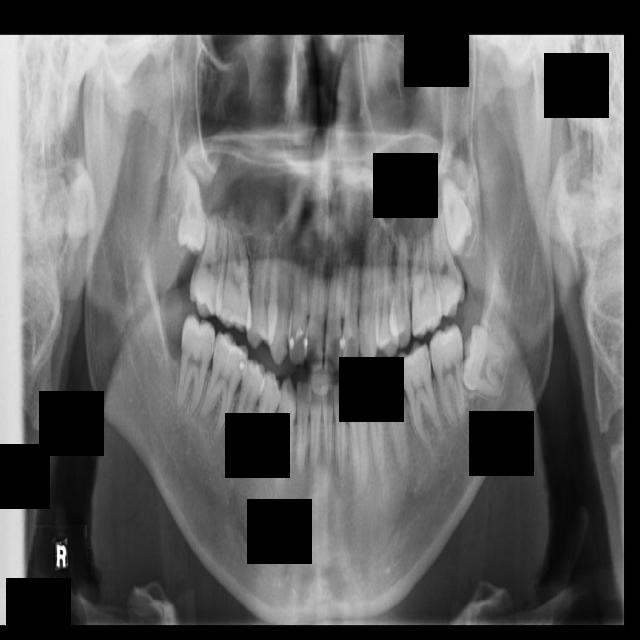3M ESPE Implant: (177, 173, 205, 253)
52: (198, 326, 261, 388), (394, 339, 435, 398), (288, 315, 308, 365), (324, 321, 343, 373), (342, 316, 359, 366)
73: (596, 555, 601, 564)
BioHorizons Implant: (426, 202, 467, 319)
BioLife Implant: (437, 176, 476, 256)
Biomet 3i Implant: (459, 324, 505, 396)
Blue Sky Bio Implant: (428, 322, 466, 432)
Caries: (187, 214, 229, 320)
Implant: (174, 310, 219, 420)
